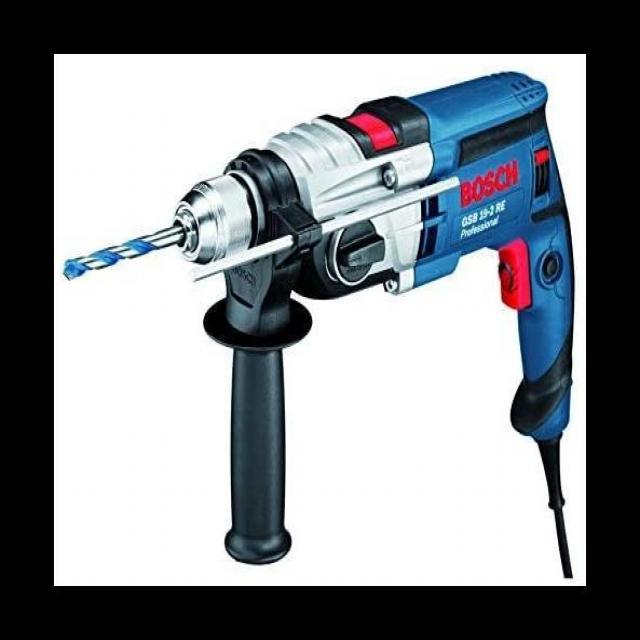drill: (62, 71, 576, 565)
